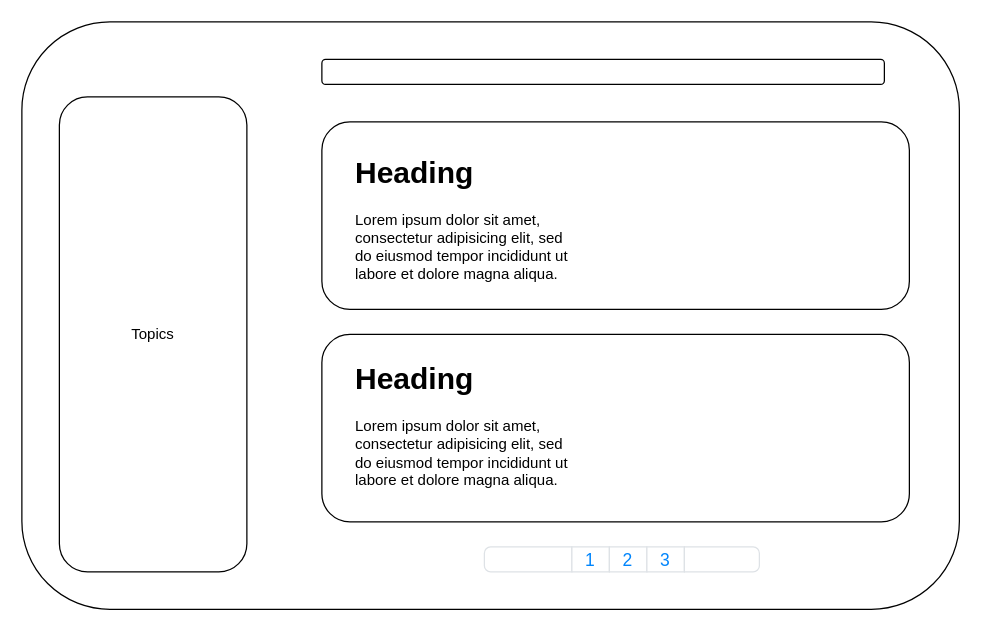
Some shapes in this 981 by 631 pixel diagram are drawn without their labels. Here are the shapes that lost their labels. From the top down, the centre of each, then its label:
At pixel 602 71: "Search...".
At pixel 527 559: "Previous".
At pixel 721 559: "Next".
